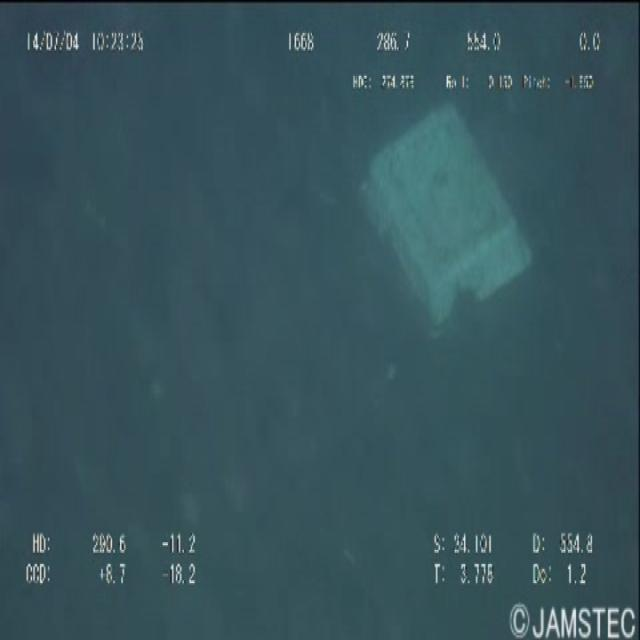Cutlery: (351, 91, 548, 321)
